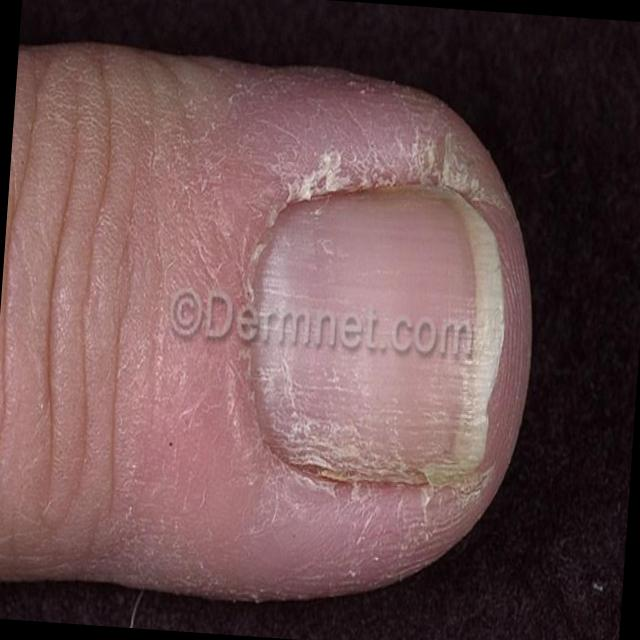Nail: (250, 184, 508, 491)
